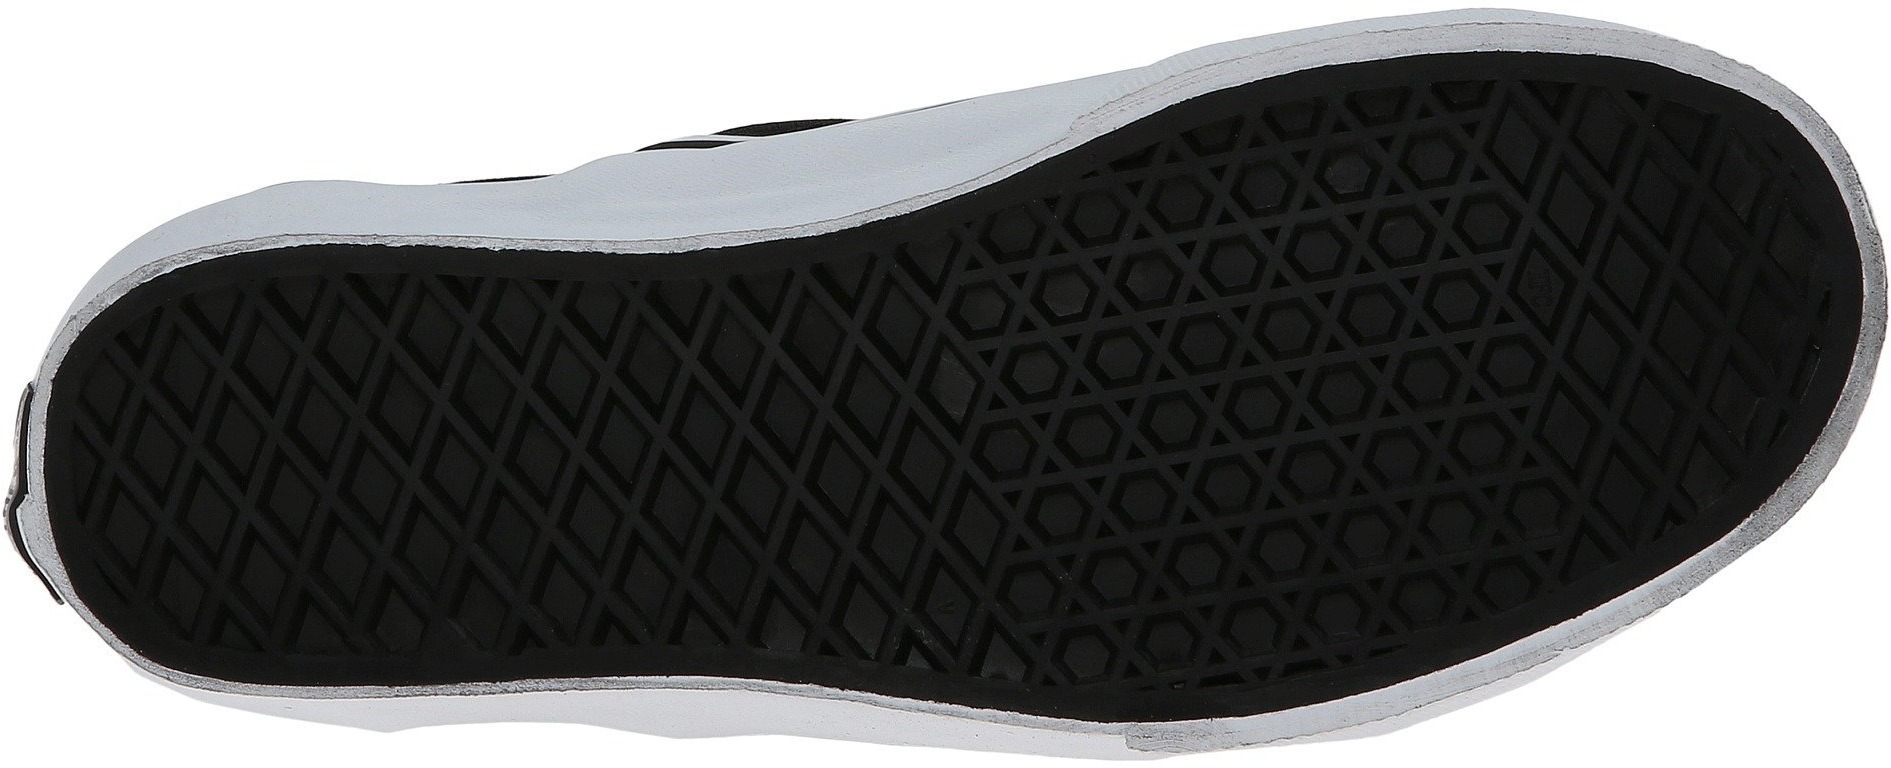polygon: (1239, 127, 1503, 392), (977, 224, 1225, 500), (1234, 395, 1482, 633), (1020, 508, 1214, 698)
quad: (308, 280, 656, 633), (663, 288, 949, 514), (71, 358, 305, 615), (1523, 95, 1738, 317), (1521, 323, 1744, 518), (725, 524, 917, 661)
triangle: (1239, 127, 1503, 392), (977, 224, 1225, 500), (1234, 395, 1482, 633), (1020, 508, 1214, 698)
